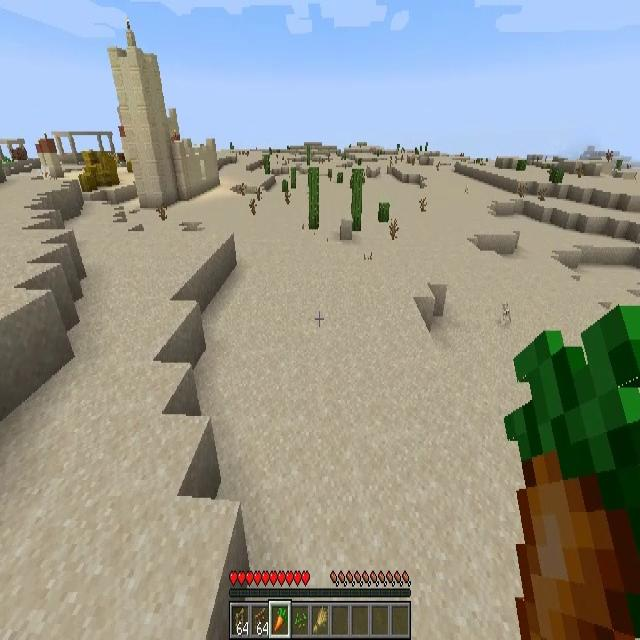rabbit: (501, 302, 511, 325)
